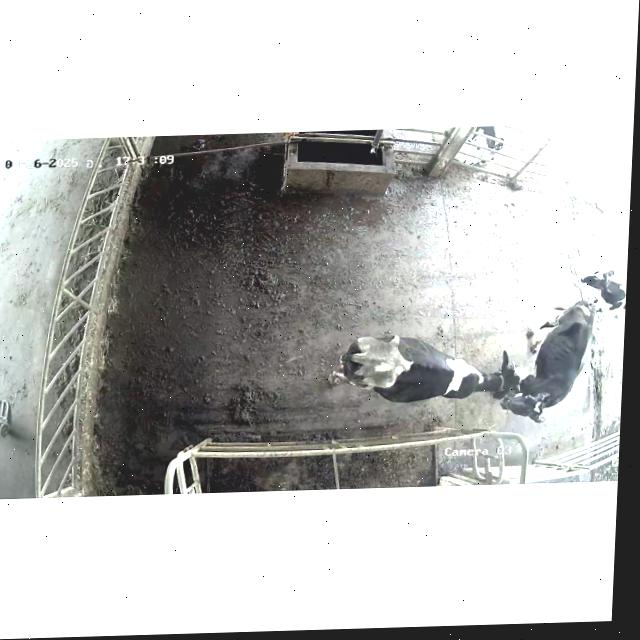stand: (339, 334, 513, 402), (501, 300, 596, 422)
